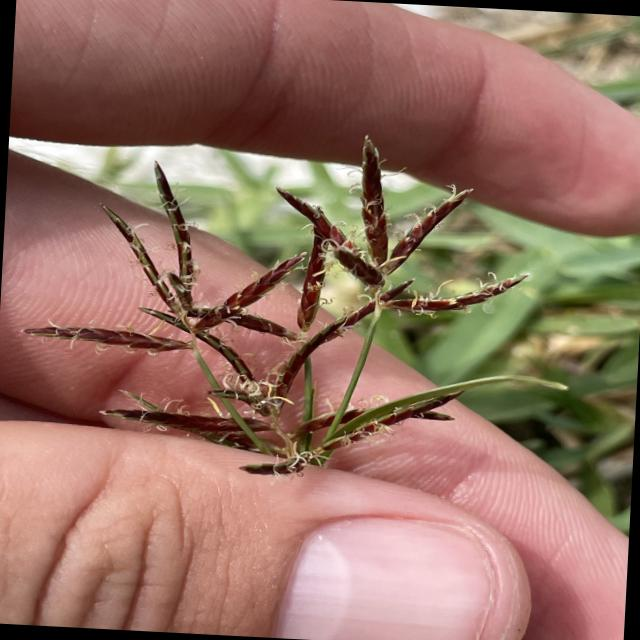cyperus: (9, 111, 552, 504)
